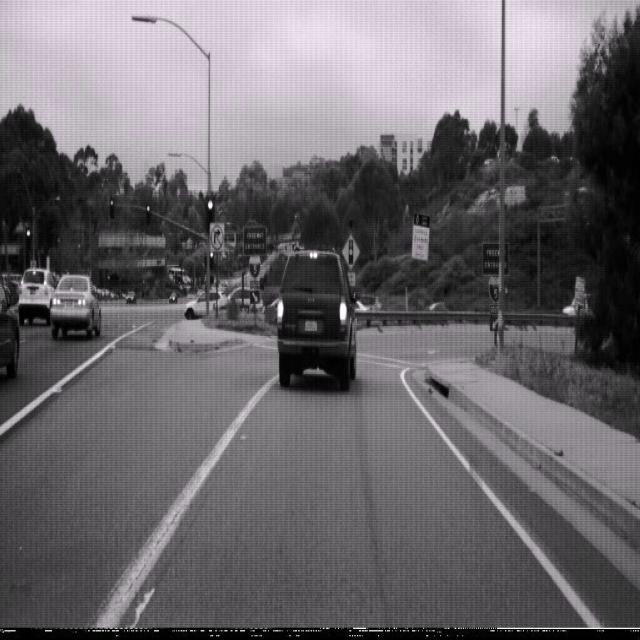noRightTurn: (210, 222, 224, 251)
